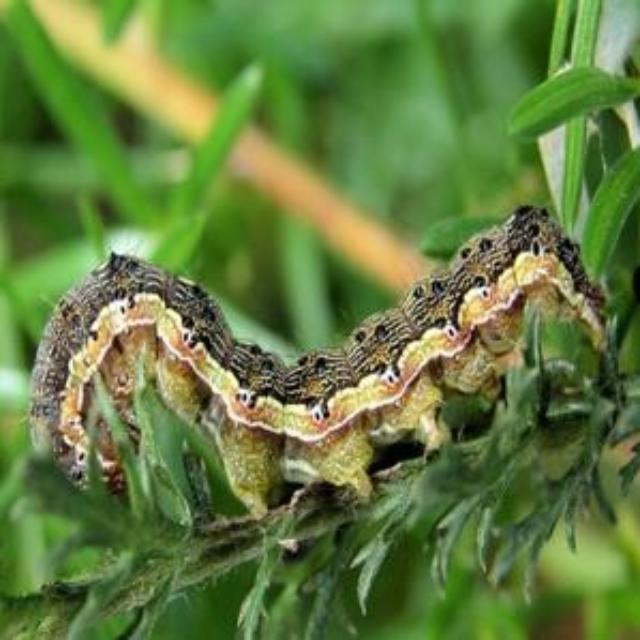Cotton bollworm: (23, 186, 633, 514)
